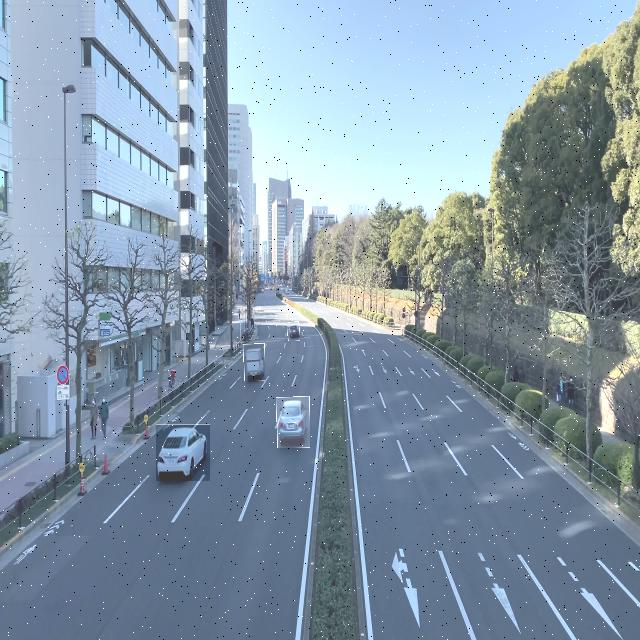Car: (156, 424, 210, 481), (277, 397, 310, 448), (244, 344, 265, 381), (288, 322, 300, 341)
